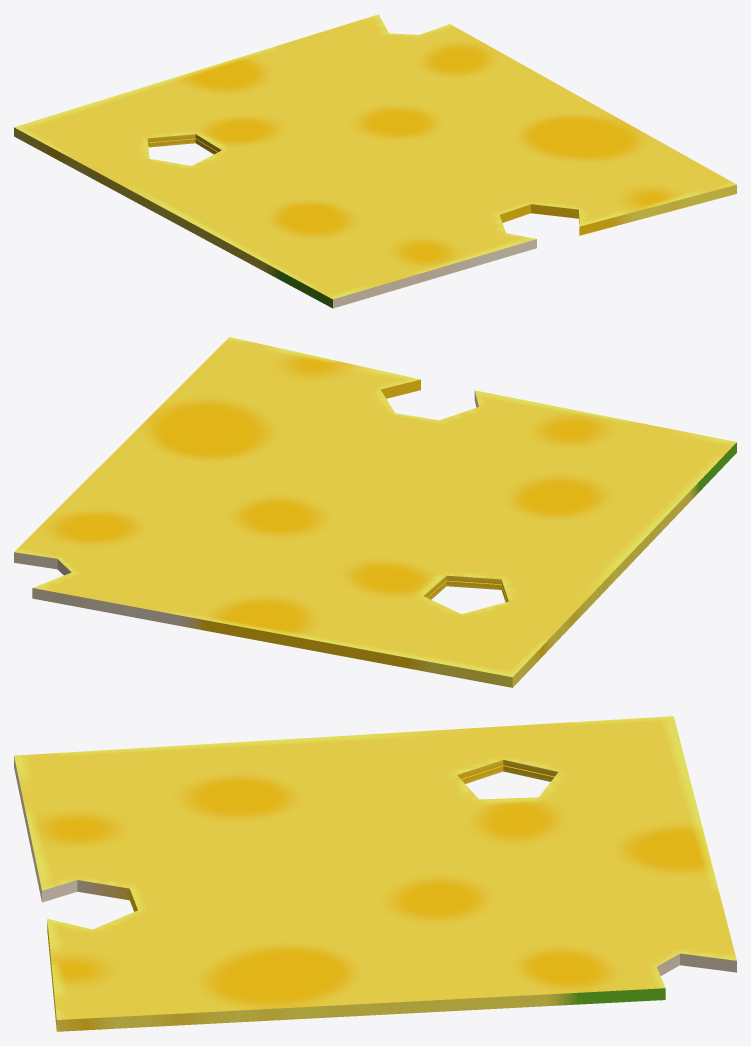
Rendered from Cheese.fbx.
The picture shows the model from 3 angles, top to bottom: view 1: azimuth 30°, elevation 25°; view 2: azimuth 150°, elevation 25°; view 3: azimuth 270°, elevation 25°; orthographic projection. The views are drawn at different scales.
Parts seen in each view (by area): view 1: polySurface14; view 2: polySurface14; view 3: polySurface14.
Boxes of the visible parts, box(x1,y1,x2,y2) form: polySurface14: box(14, 14, 736, 308); polySurface14: box(14, 337, 736, 687); polySurface14: box(14, 716, 736, 1031).
Size of the model in its own units: 1.08 by 0.0195 by 1.09.
